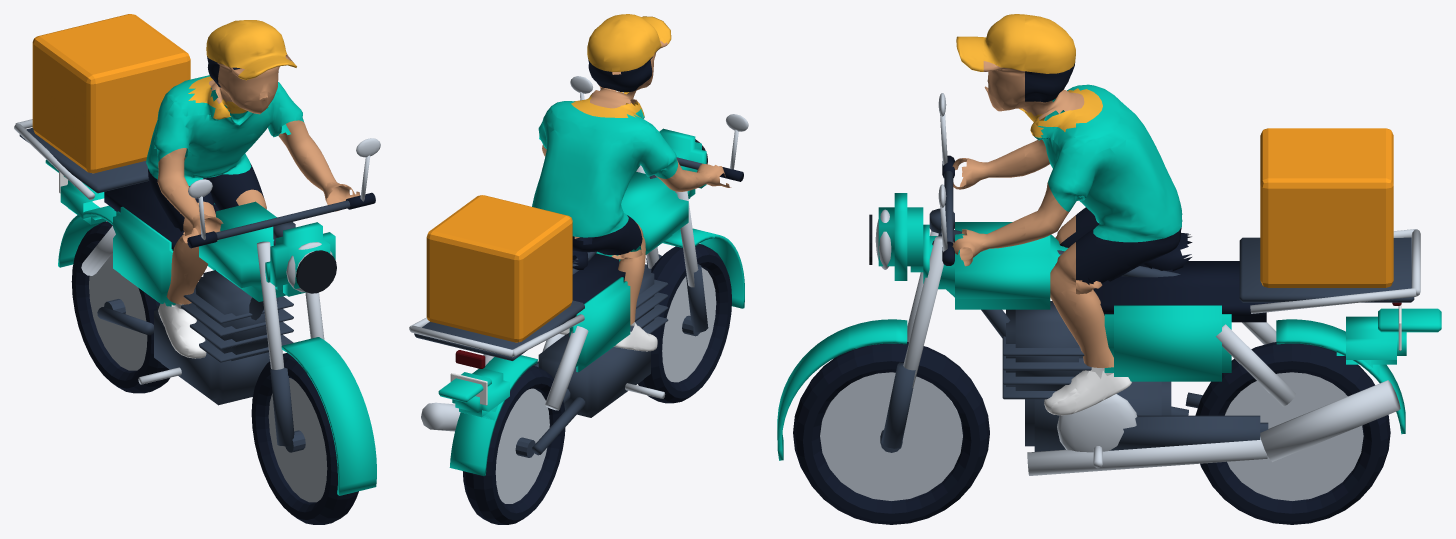
The model's file is motorbike.glb.
The picture shows the model from 3 angles, left to right: view 1: azimuth 30°, elevation 25°; view 2: azimuth 150°, elevation 25°; view 3: azimuth 270°, elevation 25°; orthographic projection. The views are drawn at different scales.
Parts seen in each view (by area): view 1: Bike_Body, Wheel_Front, Wheel_Rear, Lens_Head; view 2: Bike_Body, Wheel_Rear, Wheel_Front, Lens_Tail; view 3: Bike_Body, Wheel_Front, Wheel_Rear.
Boxes of the visible parts, bbox=[...] form: Bike_Body: bbox=[14, 14, 380, 495]; Wheel_Front: bbox=[251, 353, 358, 524]; Wheel_Rear: bbox=[71, 221, 169, 393]; Lens_Head: bbox=[296, 250, 336, 293]; Bike_Body: bbox=[409, 14, 748, 475]; Wheel_Rear: bbox=[463, 365, 565, 524]; Wheel_Front: bbox=[638, 244, 731, 403]; Lens_Tail: bbox=[455, 350, 485, 368]; Bike_Body: bbox=[777, 14, 1441, 475]; Wheel_Front: bbox=[793, 342, 989, 524]; Wheel_Rear: bbox=[1195, 342, 1390, 524].
Bounding box in the file's own units: 0.7775 × 1.75 × 2.09.
